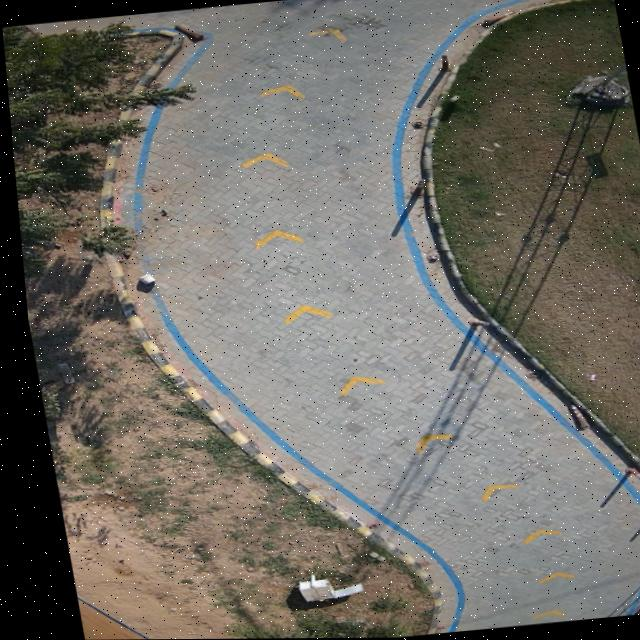No Car: (2, 0, 640, 640)
